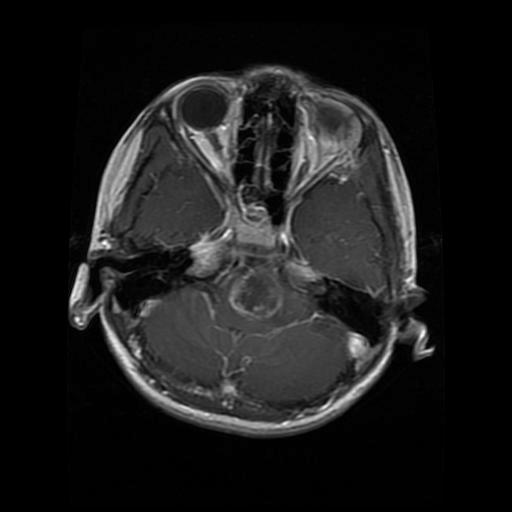Tumour-Glioma: (238, 260, 286, 327)
